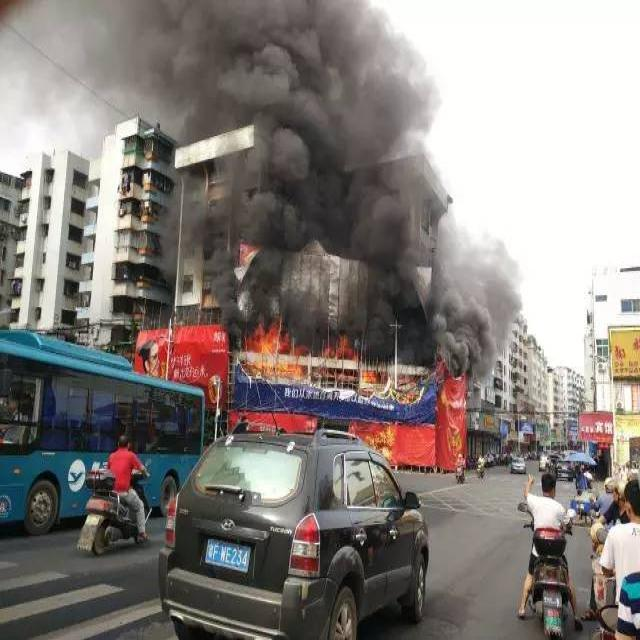Fire: (246, 320, 301, 378)
Smoke: (142, 3, 521, 317), (434, 314, 508, 378)
